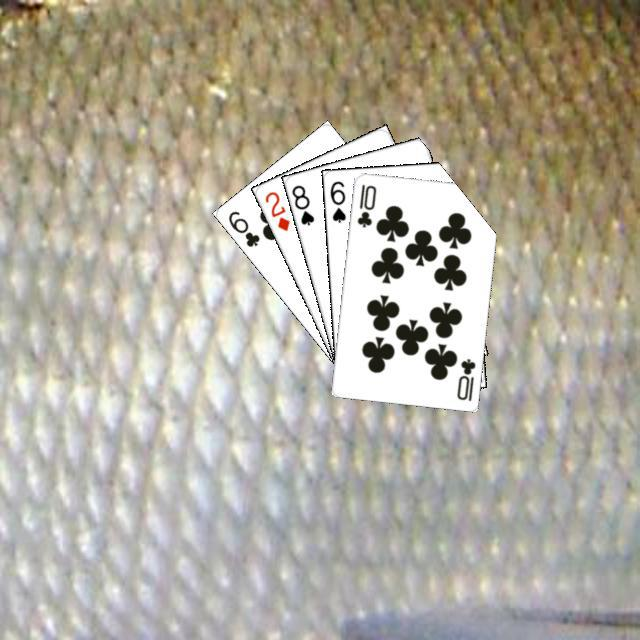10c: (352, 179, 378, 229), (452, 353, 477, 402)
2d: (260, 186, 292, 233)
6c: (223, 206, 262, 249)
6s: (325, 176, 347, 224)
8s: (287, 180, 316, 227)
